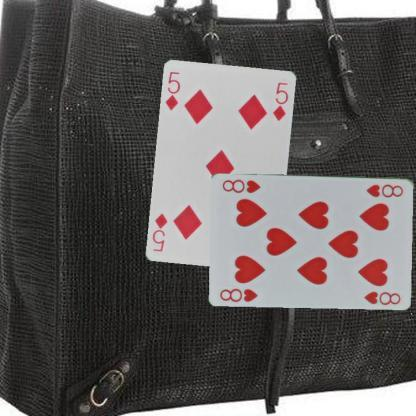5d: (162, 69, 181, 112)
8h: (217, 286, 259, 304), (364, 182, 404, 198)
